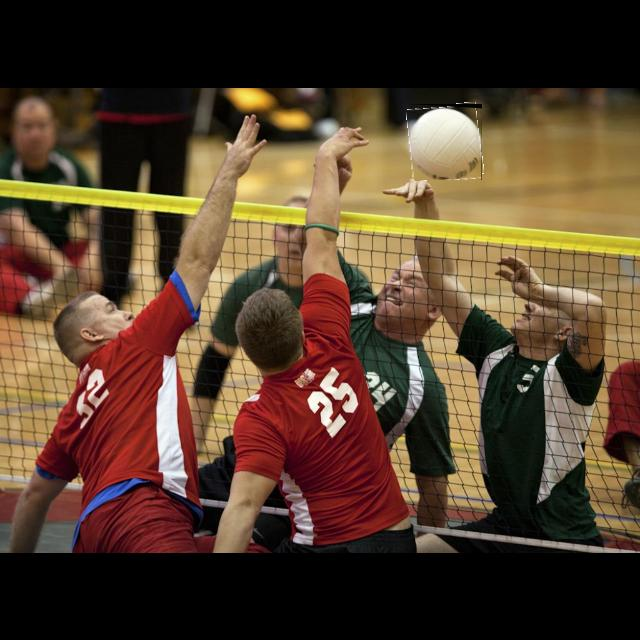Football: (408, 104, 482, 180)
